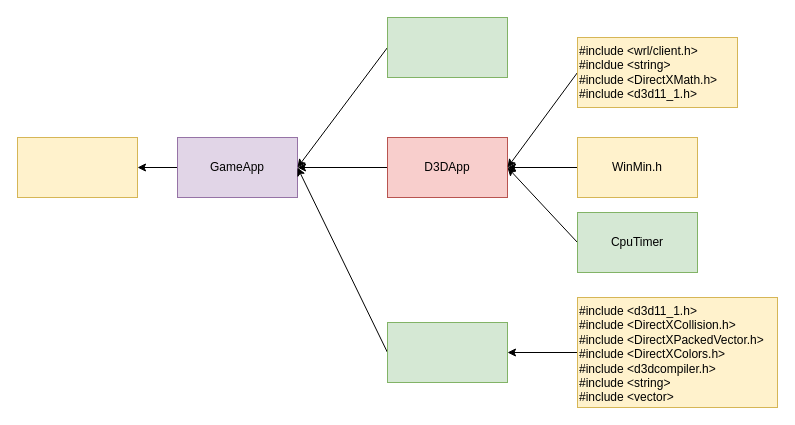
The diagram is 795 pixels wide and 425 high, and some of its shapes have lost their labels. The shapes that lost their labels are listed below. From the top down, each one's centre as x and y in pixels, then its label:
point (447, 47): DXTrace
point (77, 167): Main.cpp
point (447, 352): D3DUtil
